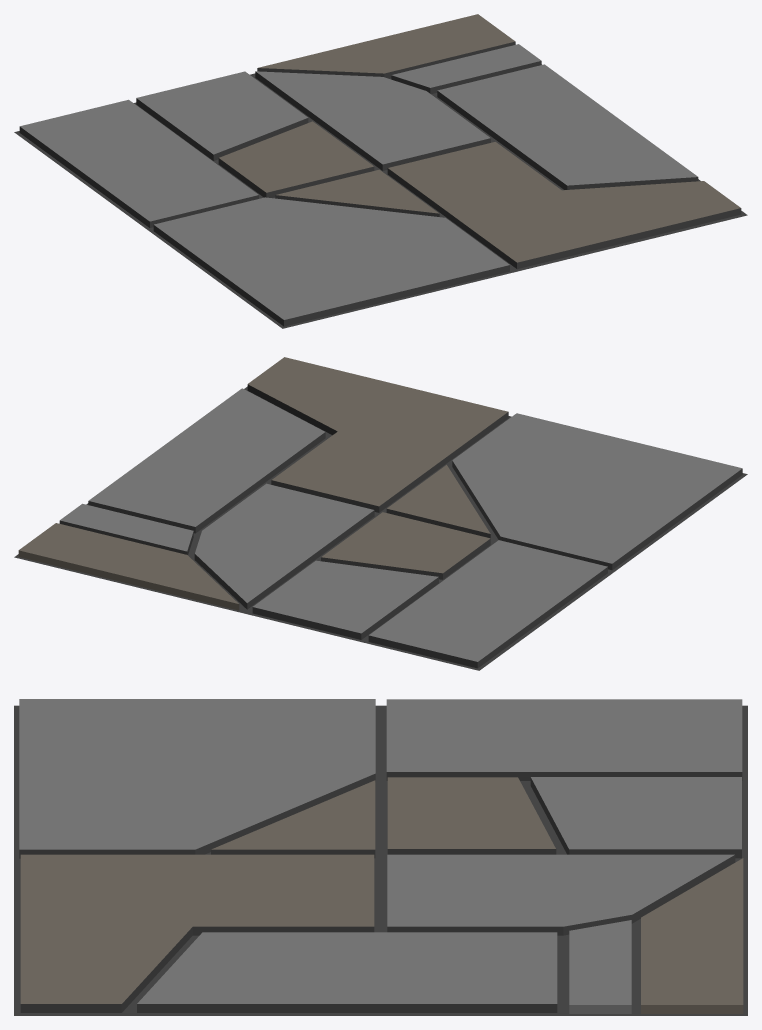
Rendered from Walkway Modern B.fbx.
3 renders of one model, top to bottom at view 1: azimuth 30°, elevation 25°; view 2: azimuth 150°, elevation 25°; view 3: azimuth 270°, elevation 25°, orthographic. The views are drawn at different scales.
Parts seen in each view (by area): view 1: Walkway Modern B.001; view 2: Walkway Modern B.001; view 3: Walkway Modern B.001.
Part boxes in pixels (x1=…): Walkway Modern B.001: x1=14, y1=14, x2=747, y2=328; Walkway Modern B.001: x1=14, y1=357, x2=747, y2=670; Walkway Modern B.001: x1=14, y1=699, x2=747, y2=1015.
Size of the model in its own units: 305 by 305 by 4.09.
